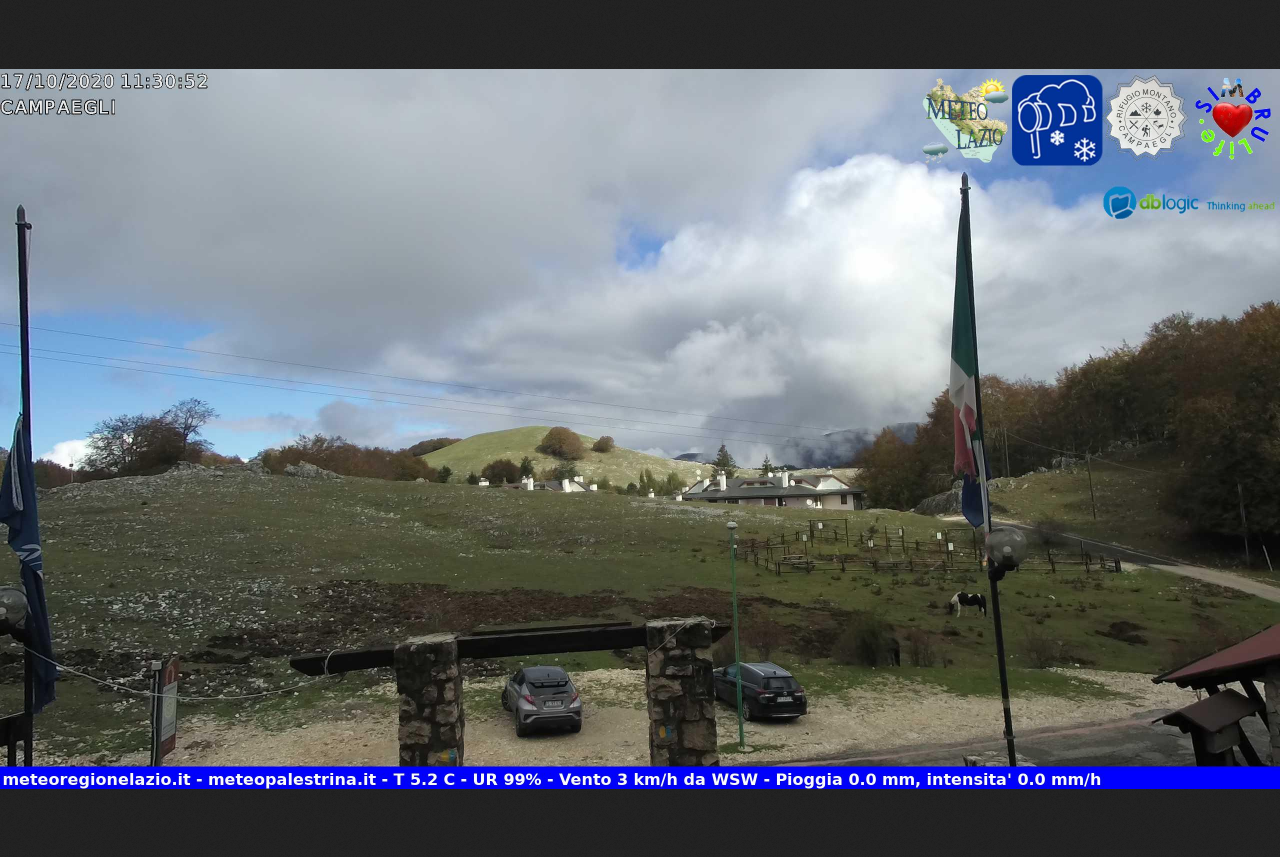no: (2, 418, 56, 718), (949, 193, 992, 528)
